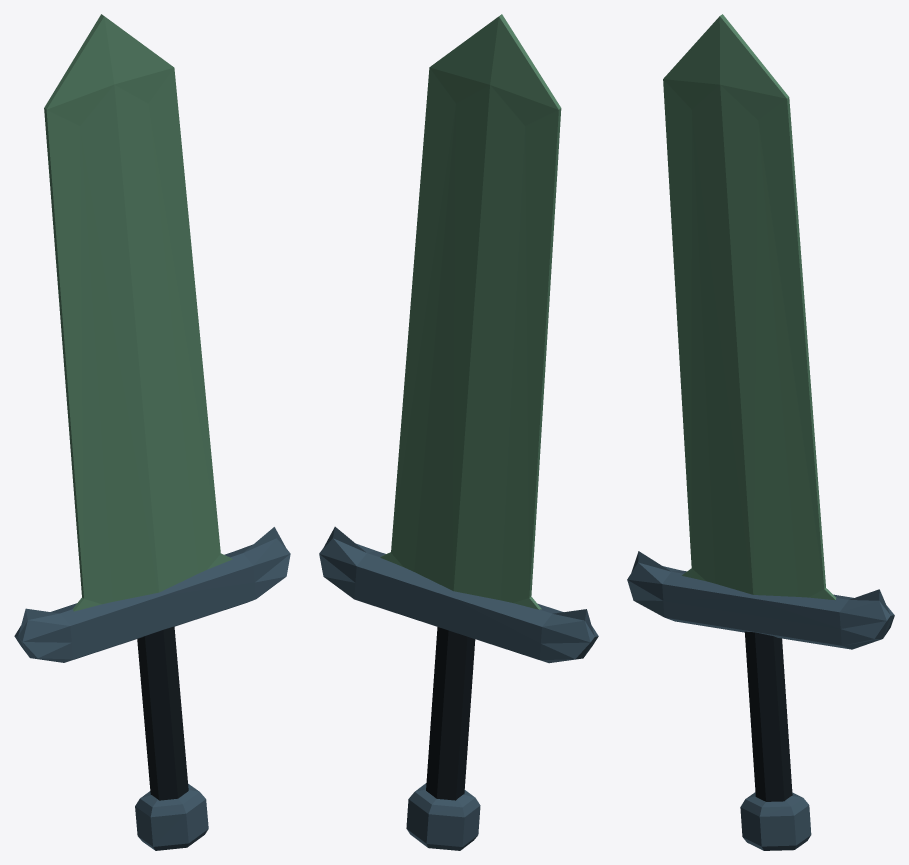
The model's file is adamant_weapon.glb.
The picture shows the model from 3 angles, left to right: view 1: azimuth 30°, elevation 25°; view 2: azimuth 150°, elevation 25°; view 3: azimuth 330°, elevation 25°; orthographic projection. The views are drawn at different scales.
Parts seen in each view (by area): view 1: adamant_weapon; view 2: adamant_weapon; view 3: adamant_weapon.
Part boxes in pixels (x1,y1,x2,y2): adamant_weapon: [14, 14, 290, 850]; adamant_weapon: [319, 14, 598, 850]; adamant_weapon: [627, 14, 894, 850].
Bounding box in the file's own units: 0.3354 × 1 × 0.0683.
